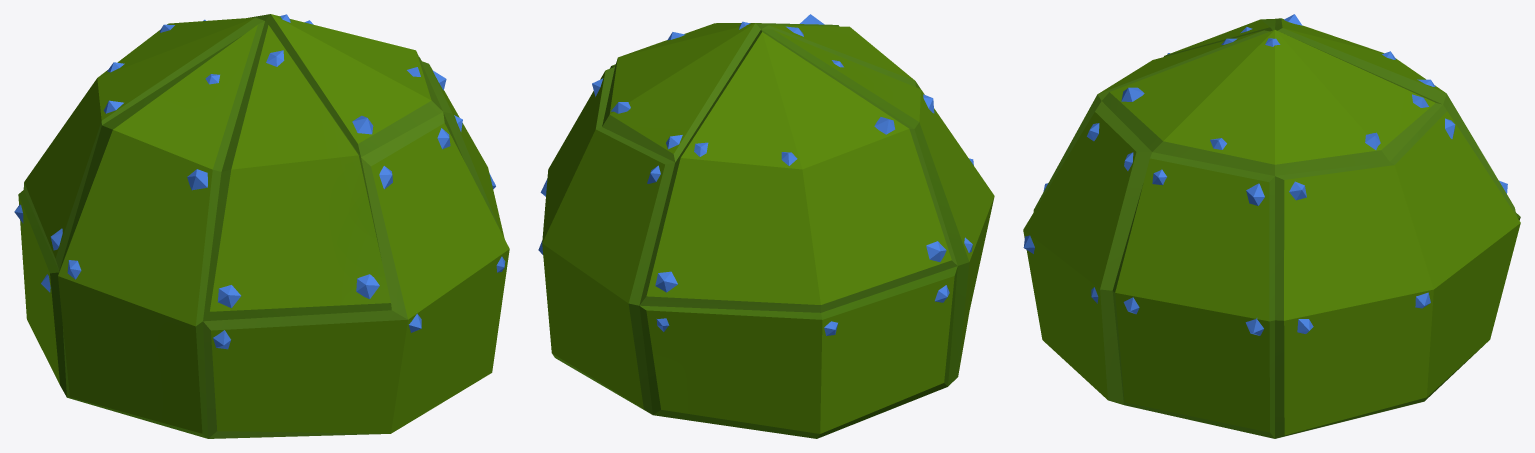
Rendered from obj_bush01_alt.gltf.
3 views of the same model, side by side, from view 1: azimuth 30°, elevation 25°; view 2: azimuth 150°, elevation 25°; view 3: azimuth 270°, elevation 25° (orthographic). The views are drawn at different scales.
Visible parts, largest first — view 1: obj_bush01_alt; view 2: obj_bush01_alt; view 3: obj_bush01_alt.
Boxes of the visible parts, left/top/right/bottom form: obj_bush01_alt: left=14, top=14, right=509, bottom=438; obj_bush01_alt: left=538, top=14, right=994, bottom=438; obj_bush01_alt: left=1023, top=14, right=1520, bottom=438.
Size of what is drawn, in the model's own units: 1.73 by 1.3 by 1.81.
1 material, 1 textured.
